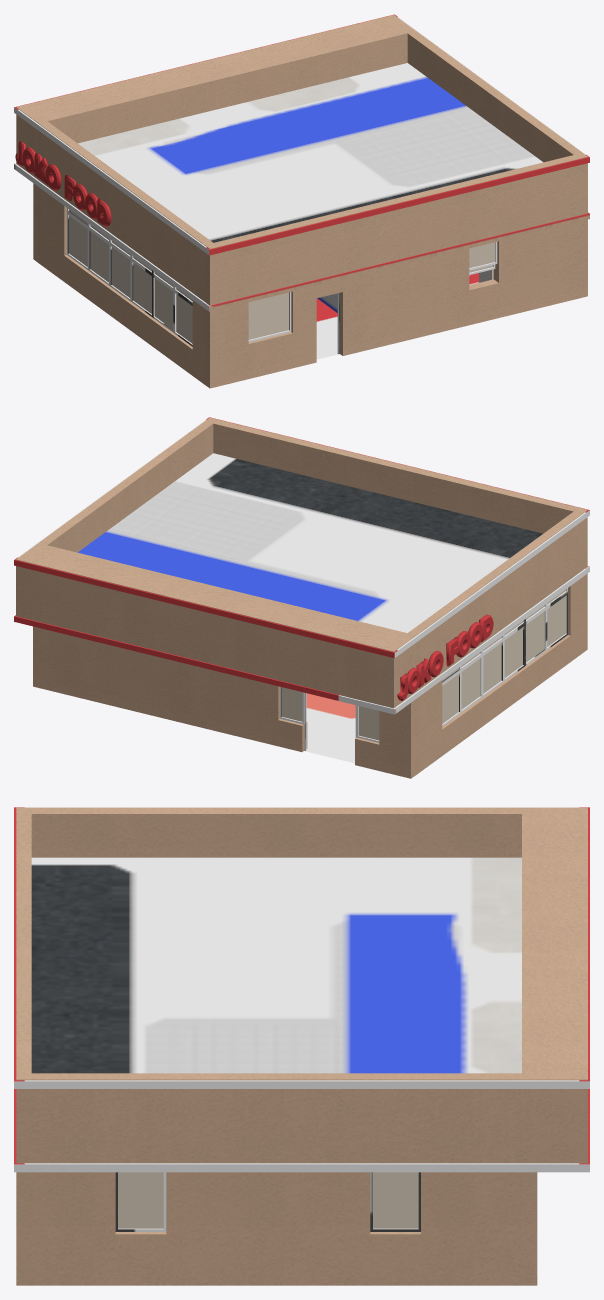
Rendered from Fast_food.fbx.
3 views of the same model, one above another, from view 1: azimuth 30°, elevation 25°; view 2: azimuth 150°, elevation 25°; view 3: azimuth 270°, elevation 25° (orthographic). The views are drawn at different scales.
Visible parts, largest first — view 1: batiment, Fenetre vitres, Text; view 2: batiment, Fenetre vitres, Text; view 3: batiment, Fenetre vitres.
Part boxes in pixels (<box>): batiment: <box>14,14,589,388</box>; Fenetre vitres: <box>69,209,494,343</box>; Text: <box>15,141,111,226</box>; batiment: <box>14,417,589,778</box>; Fenetre vitres: <box>282,589,565,740</box>; Text: <box>397,614,493,700</box>; batiment: <box>14,807,589,1285</box>; Fenetre vitres: <box>118,1172,418,1228</box>.
Bounding box in the file's own units: 1293 × 450 × 1140.
